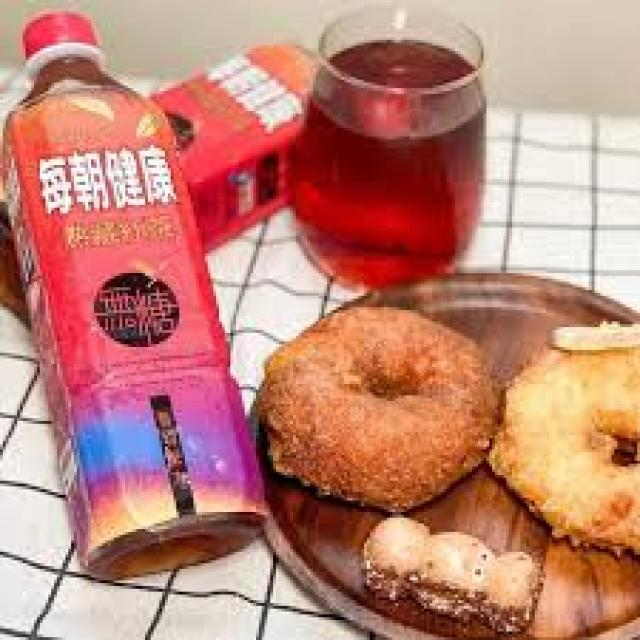MeiChou_BlackTea: (0, 4, 267, 580)
